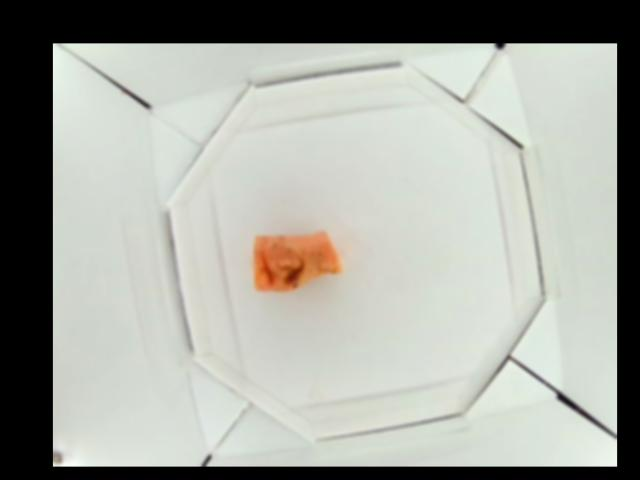Carrot: (252, 228, 342, 291)
